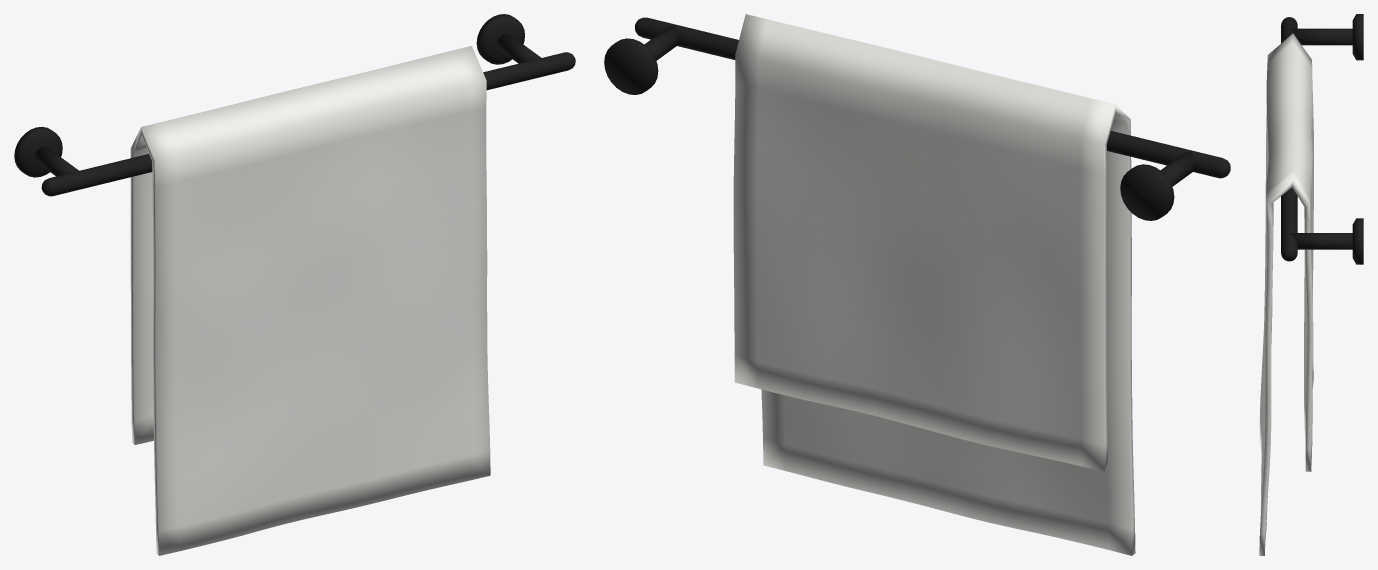
The model's file is toallero_barra_60_negro.glb.
The picture shows the model from 3 angles, left to right: view 1: azimuth 30°, elevation 25°; view 2: azimuth 150°, elevation 25°; view 3: azimuth 270°, elevation 25°; orthographic projection. The views are drawn at different scales.
Visible parts, largest first — view 1: toallero_barra_60_negro; view 2: toallero_barra_60_negro; view 3: toallero_barra_60_negro.
Boxes of the visible parts, x1,y1,x2,y2 form: toallero_barra_60_negro: [14, 14, 575, 555]; toallero_barra_60_negro: [604, 14, 1230, 555]; toallero_barra_60_negro: [1259, 14, 1363, 555].
Bounding box in the file's own units: 0.598 × 0.4472 × 0.1124.
Materials: 2 (1 with a texture image).
